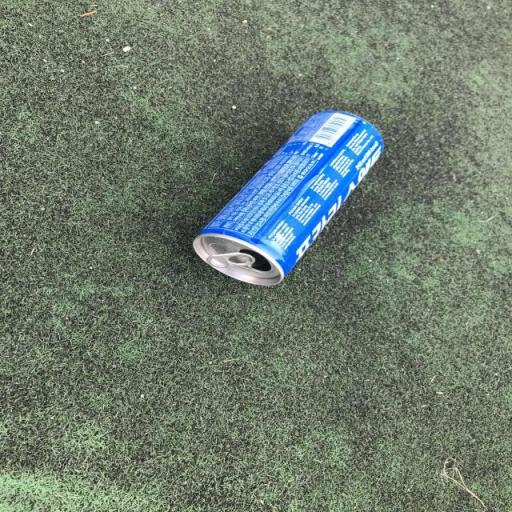metal: (148, 60, 401, 353)
